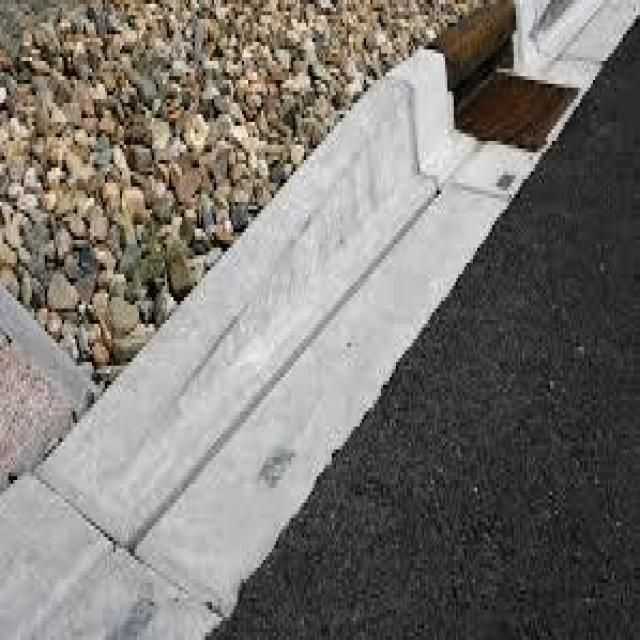curb: (1, 199, 430, 637), (318, 84, 518, 263), (424, 1, 638, 153)
